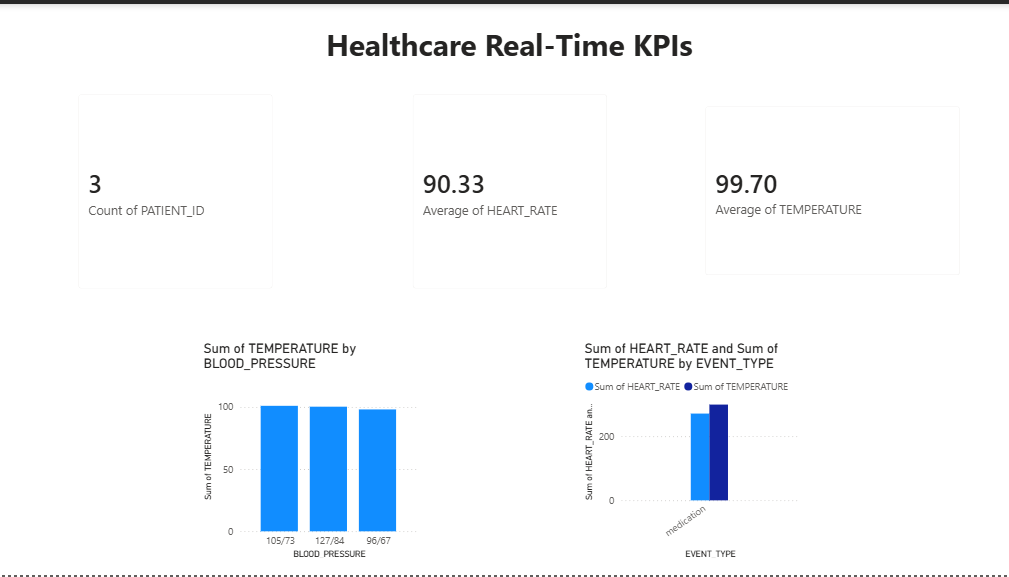

The dashboard page shown, as its layout file describes it:
{"tool":"powerbi","page":{"name":"Page 2","canvas":[1280,720],"ordinal":1},"visuals":[{"type":"clusteredColumnChart","fields":{"Category":["HEALTHCARE_VITALS.BLOOD_PRESSURE"],"Y":["Sum(HEALTHCARE_VITALS.TEMPERATURE)"]},"box":[251.3,423.3,279.7,279.7],"z":0},{"type":"clusteredColumnChart","fields":{"Category":["HEALTHCARE_VITALS.EVENT_TYPE"],"Y":["Sum(HEALTHCARE_VITALS.HEART_RATE)","Sum(HEALTHCARE_VITALS.TEMPERATURE)"]},"box":[731.3,423.3,279.7,279.7],"z":1},{"type":"textbox","box":[360.9,20.8,561.3,75.6],"z":2},{"type":"cardVisual","fields":{"Data":["CountNonNull(HEALTHCARE_VITALS.PATIENT_ID)"]},"box":[81.3,96.4,279.7,279.7],"z":3},{"type":"cardVisual","fields":{"Data":["Avg(HEALTHCARE_VITALS.HEART_RATE)"]},"box":[502.7,96.4,279.7,279.7],"z":4},{"type":"cardVisual","fields":{"Data":["Avg(HEALTHCARE_VITALS.TEMPERATURE)"]},"box":[871.2,111.5,355.3,247.6],"z":5}]}

Visuals, with their boxes in screenshot pixels (x1, y1, x2, y2), scaled from the page's 1280x720 canvas onto the 1009x577 screenshot:
clusteredColumnChart - HEALTHCARE_VITALS.BLOOD_PRESSURE x Sum(HEALTHCARE_VITALS.TEMPERATURE): [198, 339, 419, 563]
clusteredColumnChart - HEALTHCARE_VITALS.EVENT_TYPE x Sum(HEALTHCARE_VITALS.HEART_RATE): [576, 339, 797, 563]
textbox: [284, 17, 727, 77]
cardVisual - CountNonNull(HEALTHCARE_VITALS.PATIENT_ID): [64, 77, 285, 301]
cardVisual - Avg(HEALTHCARE_VITALS.HEART_RATE): [396, 77, 617, 301]
cardVisual - Avg(HEALTHCARE_VITALS.TEMPERATURE): [687, 89, 967, 288]
